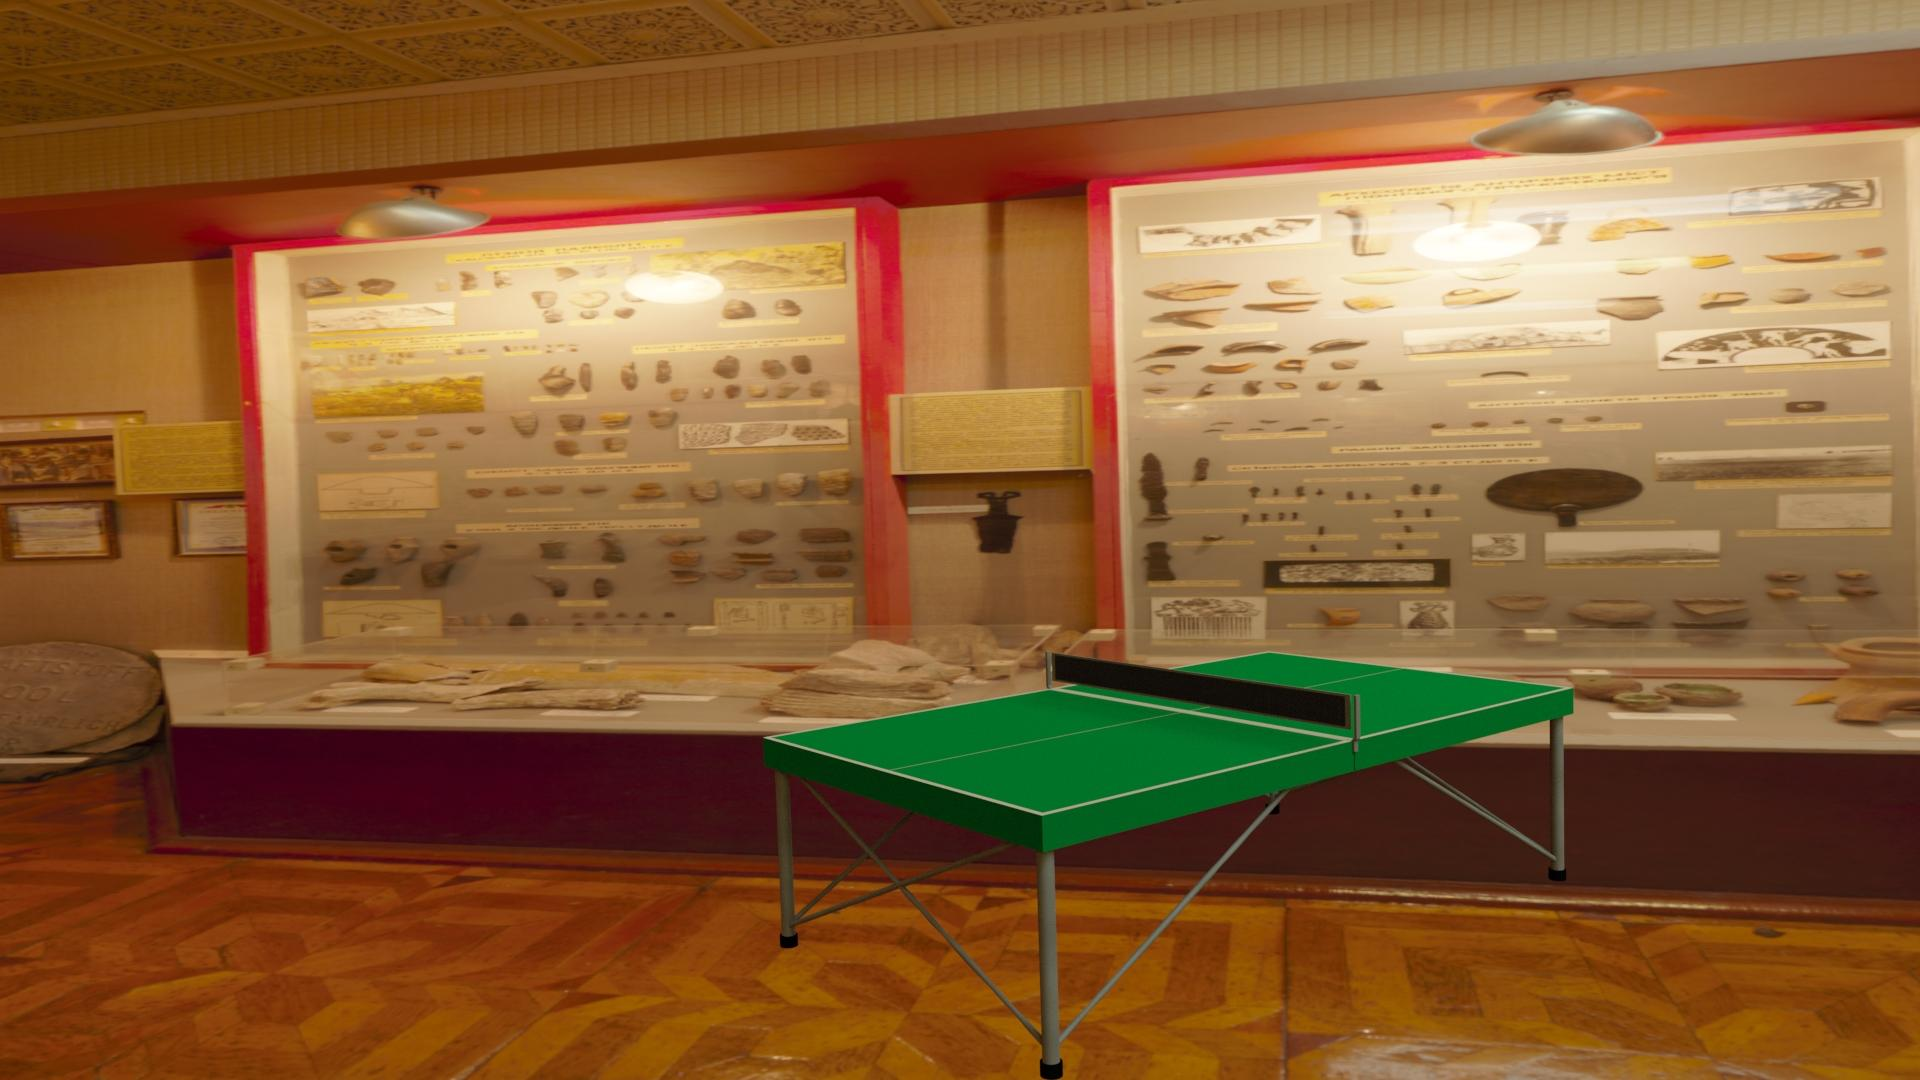table: (770, 653, 1565, 812)
